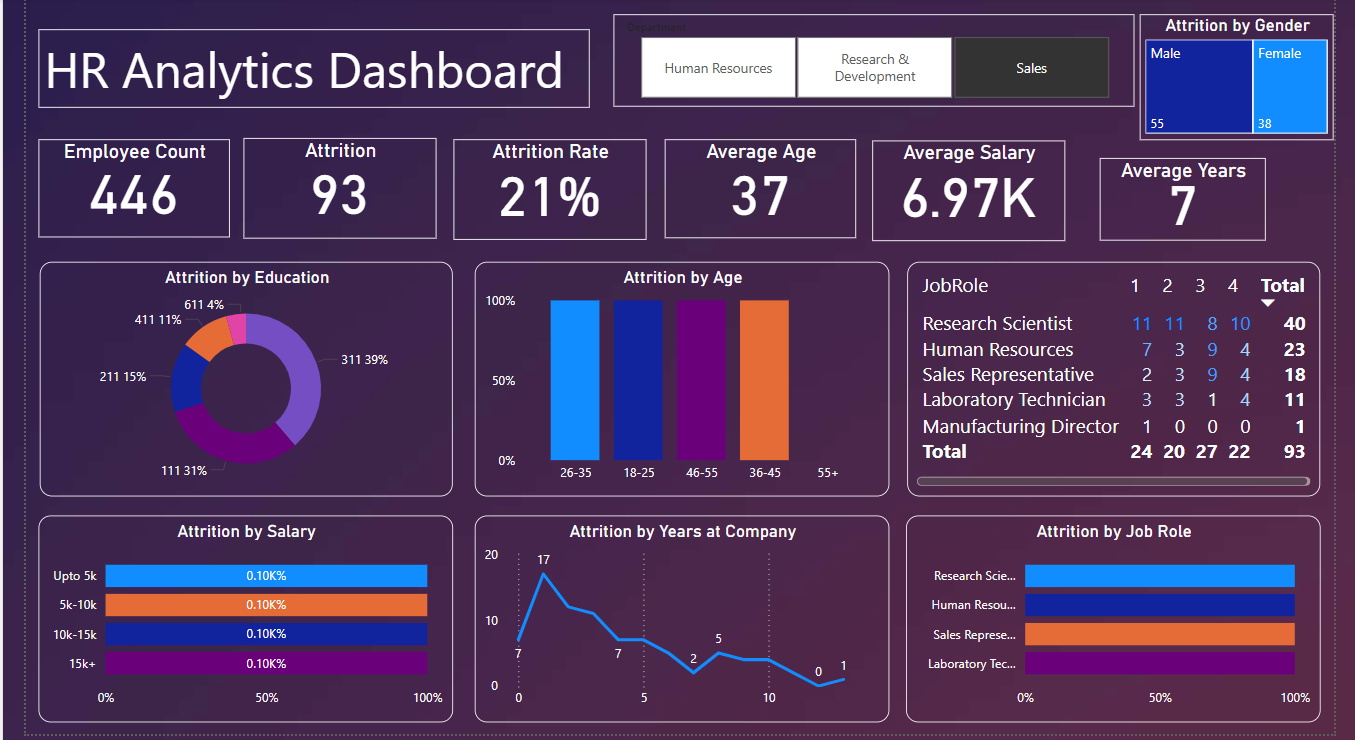

This screenshot's page, from the dashboard's own definition file:
{"tool":"powerbi","page":{"name":"Page 1","canvas":[1280,720],"ordinal":0},"visuals":[{"type":"card","title":"Employee Count","fields":{"Values":["Count(HR_Data.EmpID)"]},"box":[12.3,138,187.2,95.6],"z":0},{"type":"card","title":"Attrition","fields":{"Values":["Sum(HR_Data.Attrition_Count)"]},"box":[213.1,136.6,188.5,98.4],"z":1000},{"type":"card","title":"Attrition Rate","fields":{"Values":["HR_Data.Attrition_rate"]},"box":[418,138,188.5,98.4],"z":2000},{"type":"card","title":"Average Age","fields":{"Values":["Avg(HR_Data.Age)"]},"box":[624.3,138,187.2,97],"z":3000},{"type":"card","title":"Average Salary","fields":{"Values":["Avg(HR_Data.MonthlyIncome)"]},"box":[827.8,139.3,188.5,98.4],"z":4000},{"type":"card","title":"Average Years","fields":{"Values":["Avg(HR_Data.YearsAtCompany)"]},"box":[1050.5,157.1,162.6,80.6],"z":5000},{"type":"textbox","box":[12.3,30.1,539.6,76.5],"z":6000},{"type":"slicer","title":"Departments","fields":{"Values":["Departments.Department"]},"box":[575.1,16.4,509.5,90.2],"z":7000},{"type":"treemap","title":" Attrition by Gender","fields":{"Group":["HR_Data.Gender"],"Values":["Sum(HR_Data.Attrition_Count)"]},"box":[1090.1,16.4,189.9,122.9],"z":8000},{"type":"donutChart","title":" Attrition by Education","fields":{"Category":["HR_Data.Education"],"Y":["Sum(HR_Data.Attrition_Count)"]},"box":[13.7,258.2,404.4,229.5],"z":9000},{"type":"hundredPercentStackedBarChart","title":" Attrition by Salary","fields":{"Category":["HR_Data.SalarySlab"],"Y":["Sum(HR_Data.Attrition_Count)"],"Series":["HR_Data.SalarySlab"]},"box":[12.3,506.8,405.7,202.2],"z":10000},{"type":"pivotTable","title":" Attrition by Education","fields":{"Values":["Sum(HR_Data.Attrition_Count)"],"Rows":["Jobs.JobRole"],"Columns":["HR_Data.JobSatisfaction"]},"box":[862,258.2,404.4,229.5],"z":12000},{"type":"lineChart","title":" Attrition by Years at Company","fields":{"Category":["HR_Data.YearsAtCompany"],"Y":["Sum(HR_Data.Attrition_Count)"]},"box":[438.5,506.8,405.7,202.2],"z":13000},{"type":"hundredPercentStackedColumnChart","title":" Attrition by Age","fields":{"Category":["HR_Data.AgeGroup"],"Y":["Sum(HR_Data.Attrition_Count)"],"Series":["HR_Data.AgeGroup"]},"box":[438.5,258.2,405.7,229.5],"z":14000},{"type":"hundredPercentStackedBarChart","title":" Attrition by Job Role","fields":{"Category":["Jobs.JobRole"],"Y":["Sum(HR_Data.Attrition_Count)"],"Series":["Jobs.JobRole"]},"box":[860.6,506.8,405.7,202.2],"z":14001}]}

Visuals, with their boxes in screenshot pixels (x1, y1, x2, y2), scaled from the page's 1280x720 canvas onto the 1355x740 screenshot:
"Employee Count" card: l=13, t=142, r=211, b=240
"Attrition" card: l=226, t=140, r=425, b=242
"Attrition Rate" card: l=442, t=142, r=642, b=243
"Average Age" card: l=661, t=142, r=859, b=242
"Average Salary" card: l=876, t=143, r=1076, b=244
"Average Years" card: l=1112, t=161, r=1284, b=244
textbox: l=13, t=31, r=584, b=110
"Departments" slicer: l=609, t=17, r=1148, b=110
" Attrition by Gender" treemap: l=1154, t=17, r=1354, b=143
" Attrition by Education" donutChart: l=15, t=265, r=443, b=501
" Attrition by Salary" hundredPercentStackedBarChart: l=13, t=521, r=442, b=729
" Attrition by Education" pivotTable: l=913, t=265, r=1341, b=501
" Attrition by Years at Company" lineChart: l=464, t=521, r=894, b=729
" Attrition by Age" hundredPercentStackedColumnChart: l=464, t=265, r=894, b=501
" Attrition by Job Role" hundredPercentStackedBarChart: l=911, t=521, r=1340, b=729
